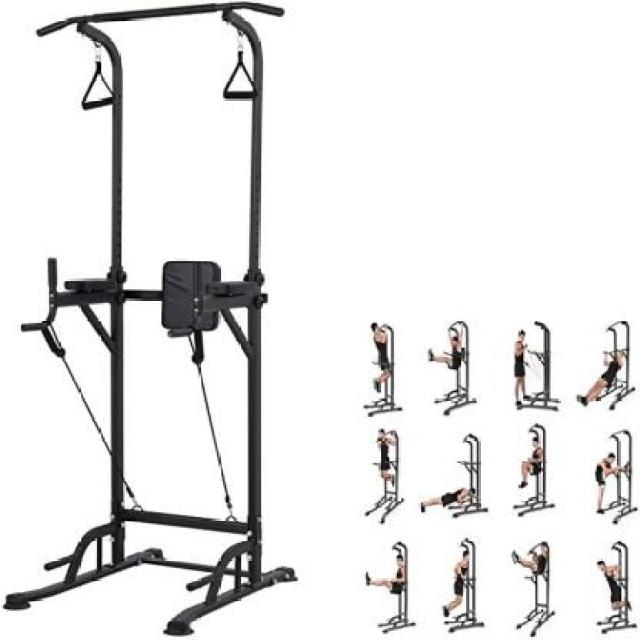chinning dipping: (9, 3, 297, 634)
